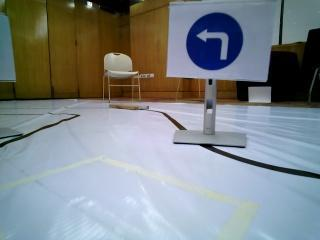left: (172, 4, 264, 78)
